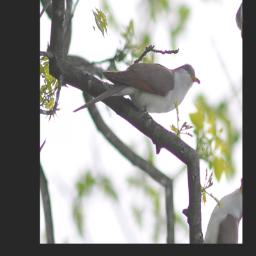Cuckoo: (67, 5, 201, 185)
